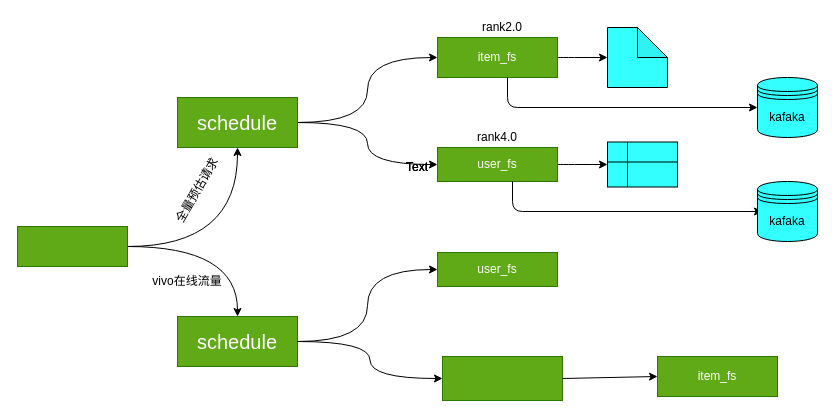
The diagram is 835 pixels wide and 418 high, and some of its shapes have lost their labels. Here are the shapes that lost their labels. From the top down, the box of each, then its label:
(606, 26, 668, 88): data
(606, 141, 678, 187): redis
(16, 226, 128, 266): nginx
(442, 356, 562, 400): sorting
